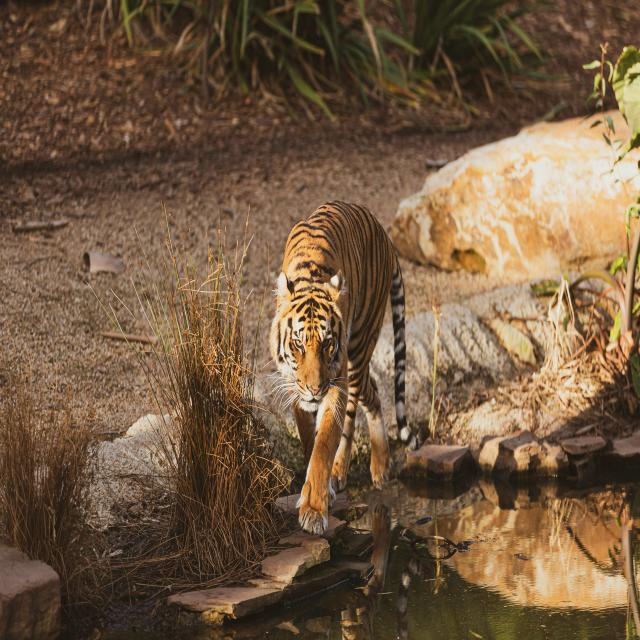Tiger: (270, 199, 409, 535)
